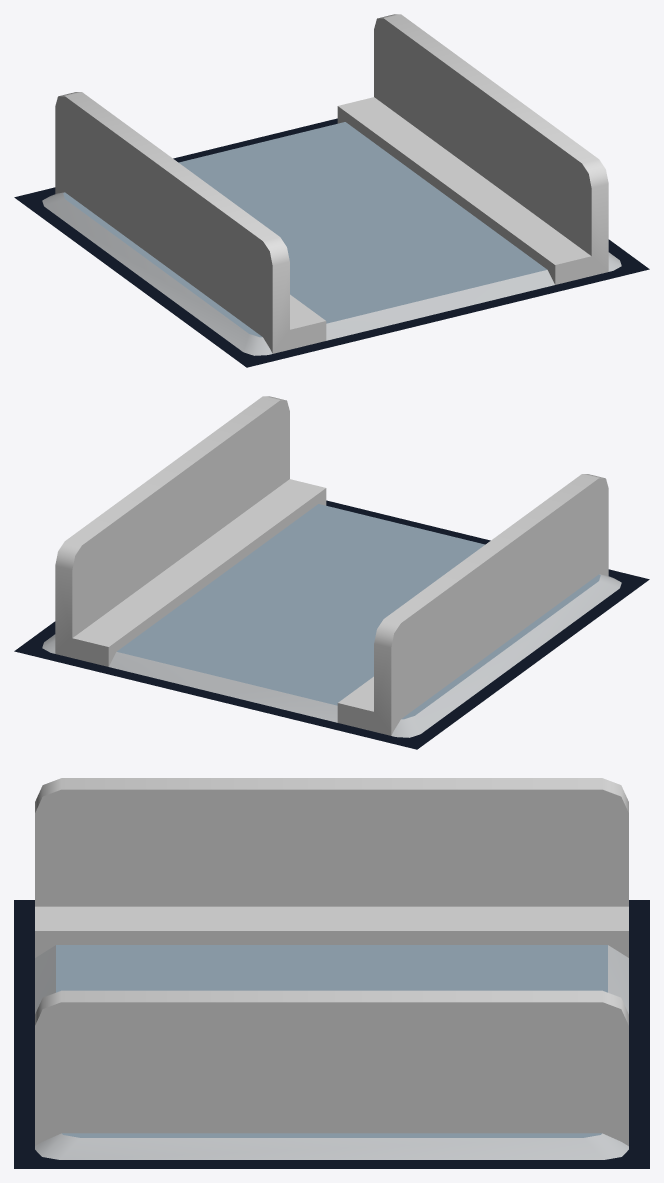
The model's file is BlockingDirectionTile.fbx.
The picture shows the model from 3 angles, top to bottom: view 1: azimuth 30°, elevation 25°; view 2: azimuth 150°, elevation 25°; view 3: azimuth 270°, elevation 25°; orthographic projection. The views are drawn at different scales.
Visible parts, largest first — view 1: BlockingDirectionTile; view 2: BlockingDirectionTile; view 3: BlockingDirectionTile.
Boxes of the visible parts, x1,y1,x2,y2 form: BlockingDirectionTile: (14, 14, 649, 367); BlockingDirectionTile: (14, 396, 649, 749); BlockingDirectionTile: (14, 778, 649, 1168).
Size of the model in its own units: 100 by 100 by 25.04.
